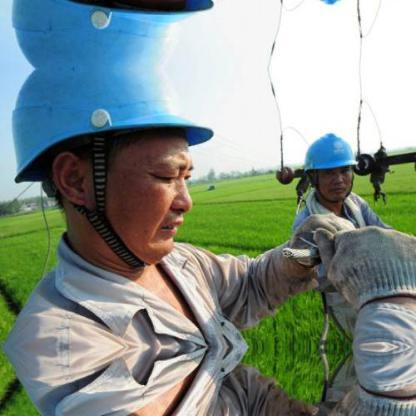helmet: (9, 68, 215, 186), (300, 133, 361, 174)
